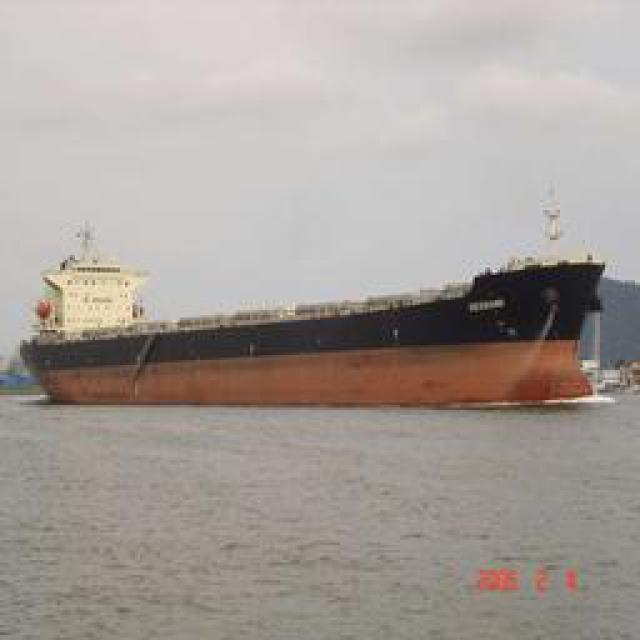Ship: (28, 235, 616, 410)
